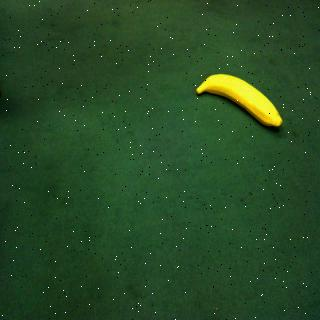banana: (194, 68, 286, 136)
